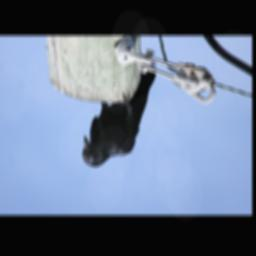Crow: (81, 66, 157, 167)
